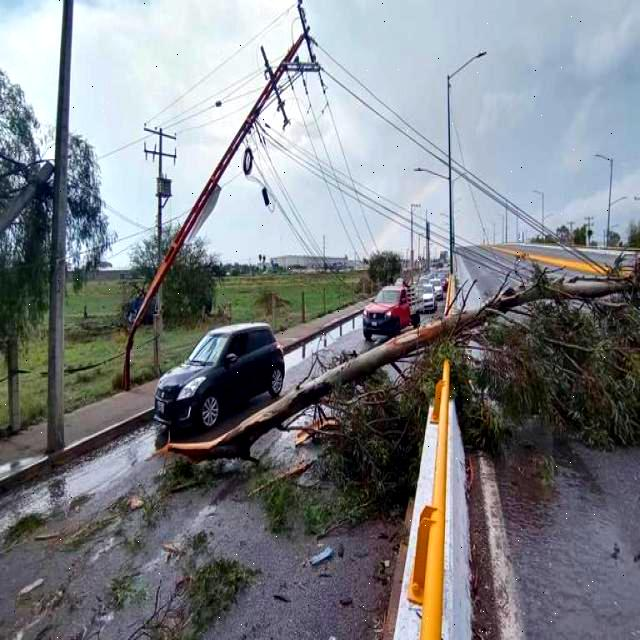Broken Pole: (122, 1, 337, 390)
